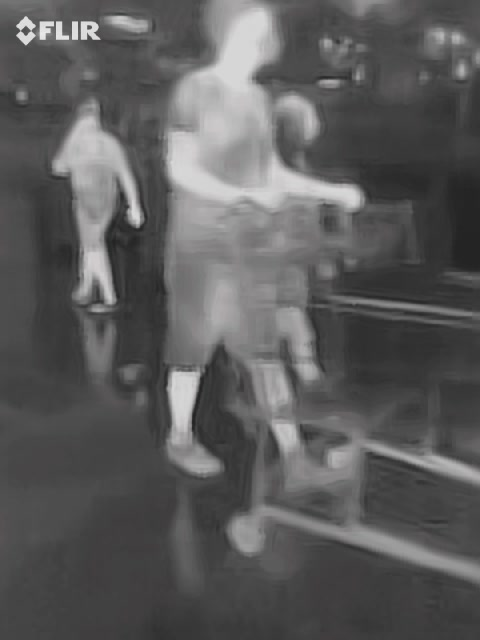head: (207, 1, 282, 73)
